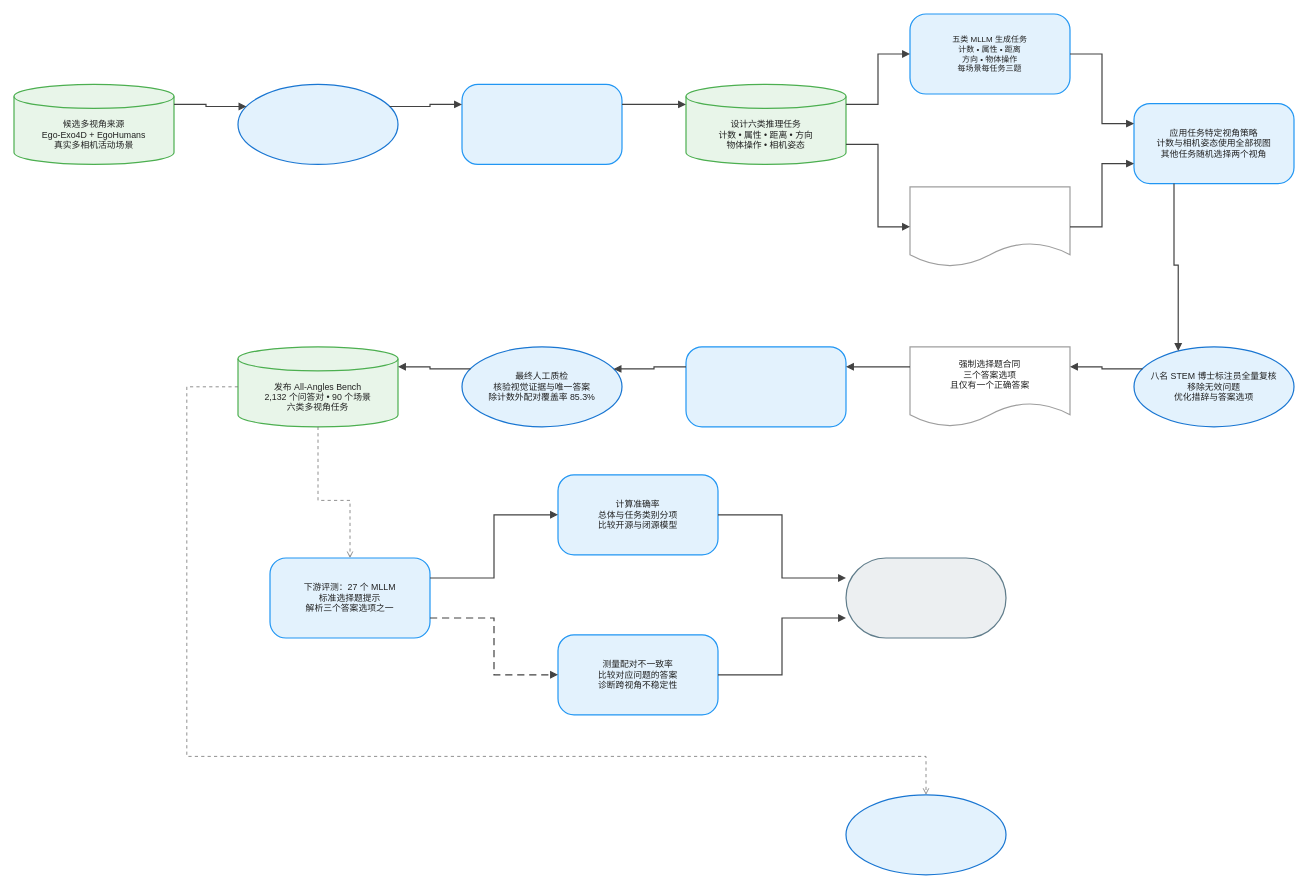
Image size: 1309x890. Some labels were removed from this diagram. The box of each missing label's shape, as (x1, y1, x2, y2) in pixels:
下游人类参考 随机抽取 250 题子集 排除配对问题 覆盖全部六类任务: (845, 794, 1006, 875)
人工筛选场景 Ego-Exo4D 83 个 + EgoHumans 7 个 共 90 个最终场景: (237, 83, 398, 165)
整理每组视角 最终保留 4–5 个空间分散视图 图像缩放至 796 × 448: (461, 83, 622, 165)
构造配对问题 改写、交换方位或更换视图 保持底层对应关系不变: (685, 346, 846, 427)
汇报下游模型结果 准确率 • 配对一致性 总体及分任务表现: (845, 557, 1006, 638)
相机姿态估计 专用问题模板 每场景一题: (909, 186, 1070, 267)
